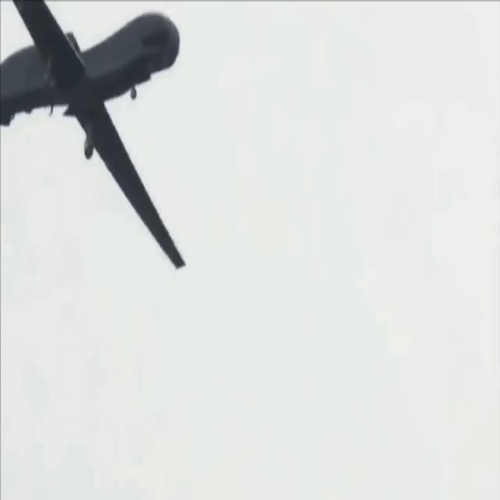uav: (1, 1, 190, 270)
